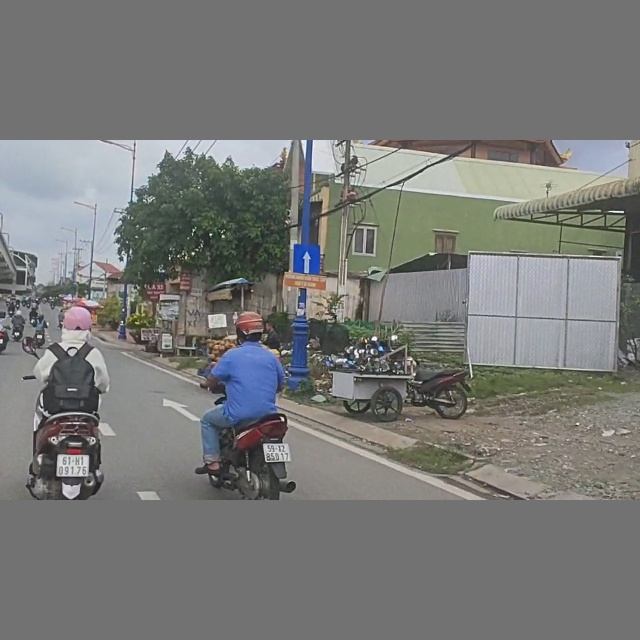I.407a: (294, 243, 321, 275)
